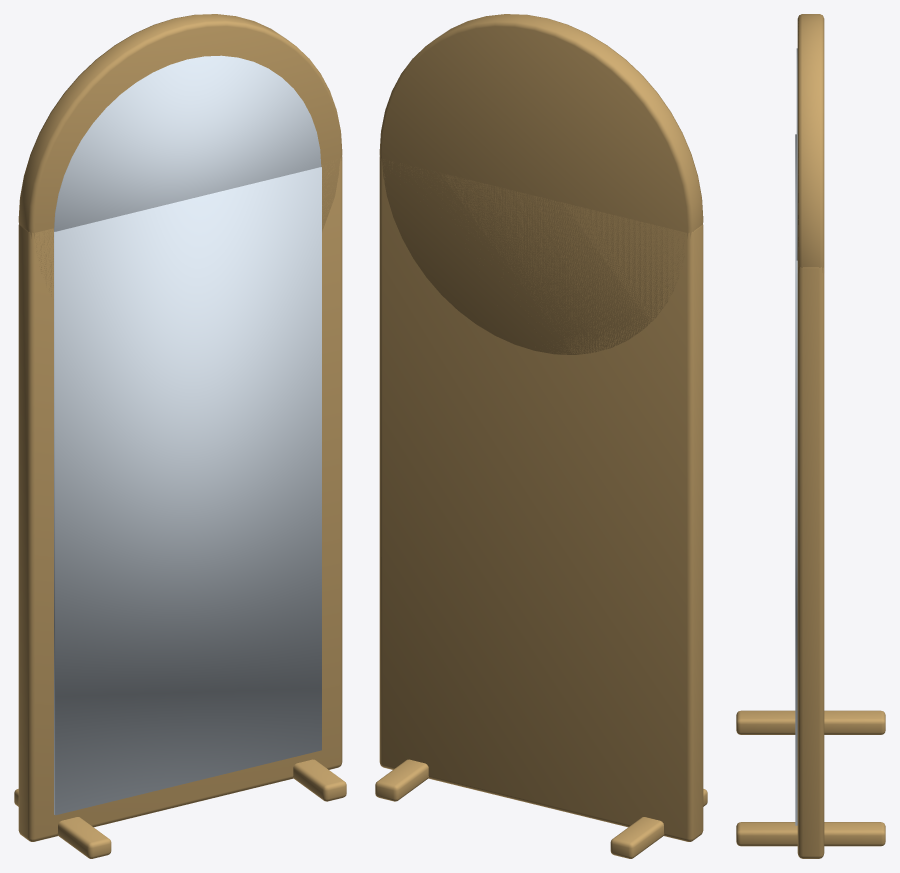
The model's file is furn_mirror.glb.
3 renders of one model, left to right at view 1: azimuth 30°, elevation 25°; view 2: azimuth 150°, elevation 25°; view 3: azimuth 270°, elevation 25°, orthographic. The views are drawn at different scales.
Parts seen in each view (by area): view 1: Cube; view 2: Cube; view 3: Cube.
Part boxes in pixels (box(x1,y1,x2,y2)): Cube: box(14, 14, 346, 858); Cube: box(375, 14, 707, 858); Cube: box(736, 14, 885, 858).
Bounding box in the file's own units: 0.8 × 1.9 × 0.34.
